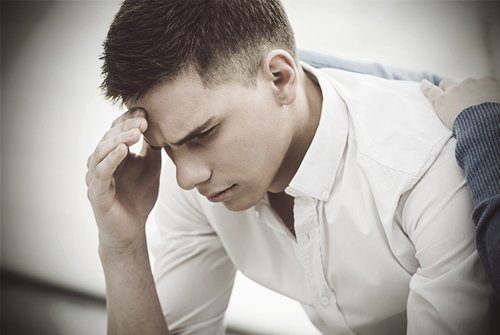sad: (143, 74, 267, 213)
